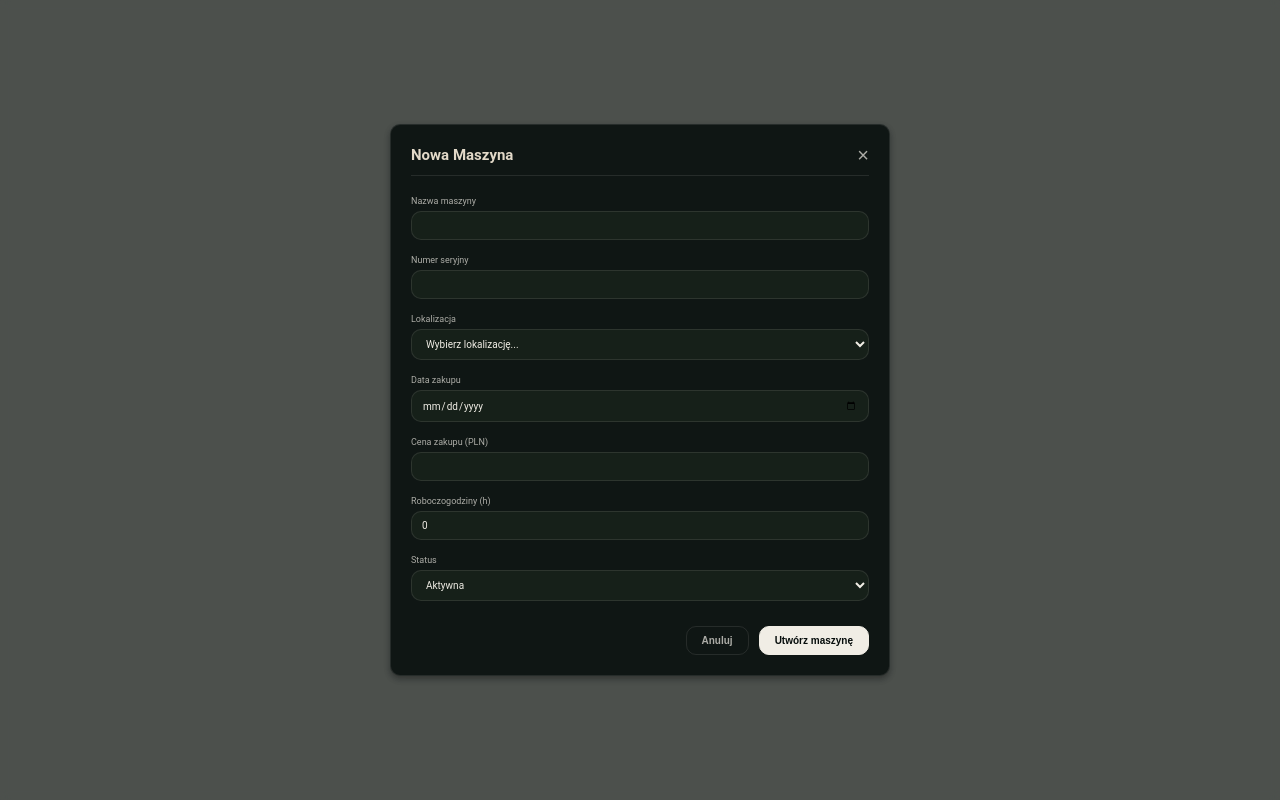
Scenario: AddMachineModal › wysyłanie formularza › wyświetla błąd gdy API zwróci błąd
Type "Tokarka" into the field labelled "Nazwa maszyny" at x=640, y=226, box [411, 211, 869, 240]
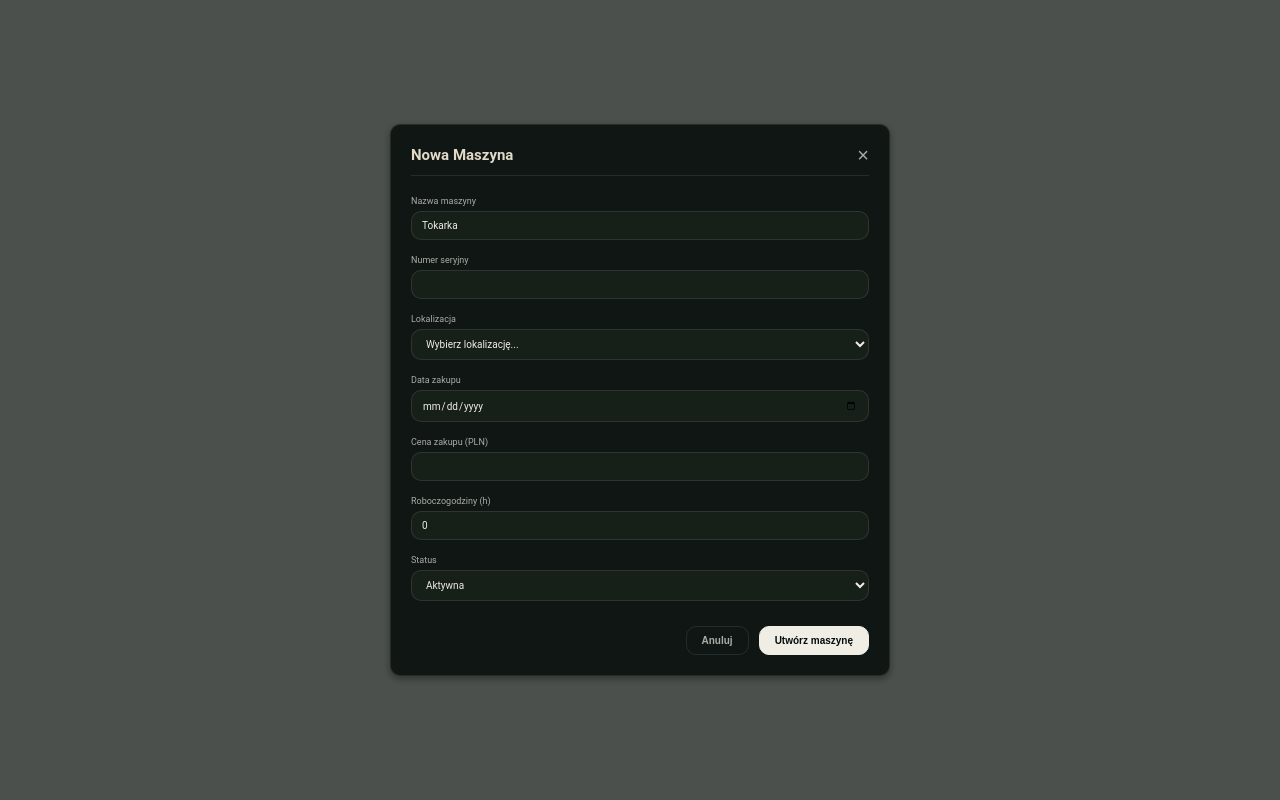
Type "SN-NEW" into the field labelled "Numer seryjny" at x=640, y=284, box [411, 270, 869, 299]
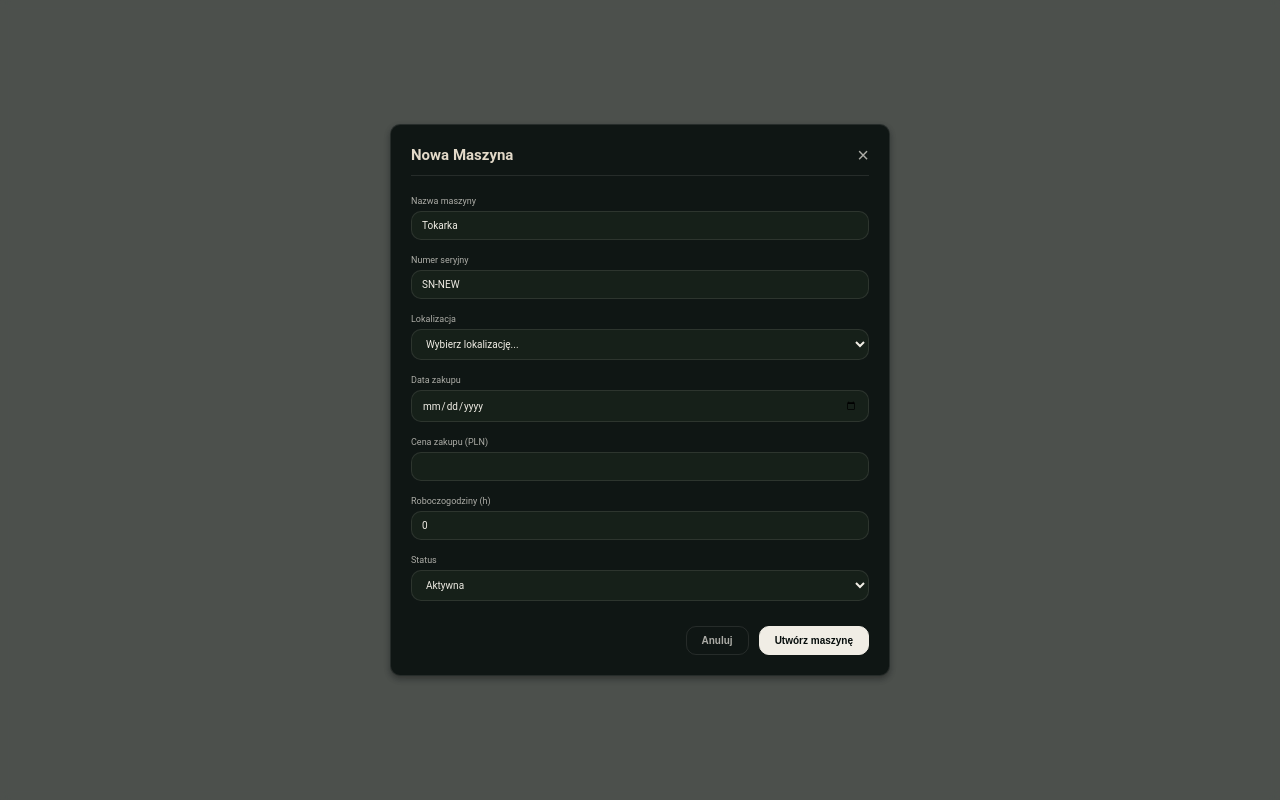
Type "2024-01-01" into the date field labelled "Data zakupu" at x=640, y=406, box [411, 390, 869, 422]
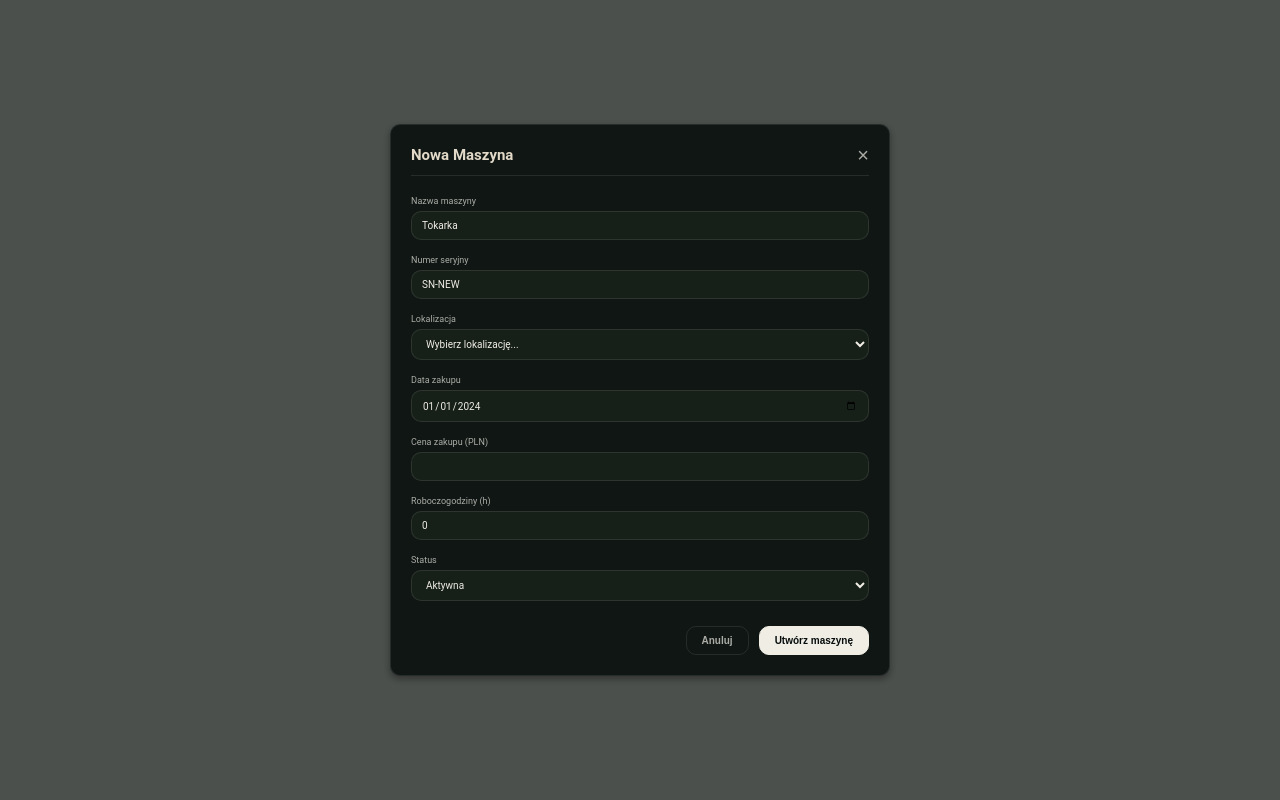
Type "10000" into the number field labelled "Cena zakupu (PLN)" at x=640, y=466, box [411, 452, 869, 481]
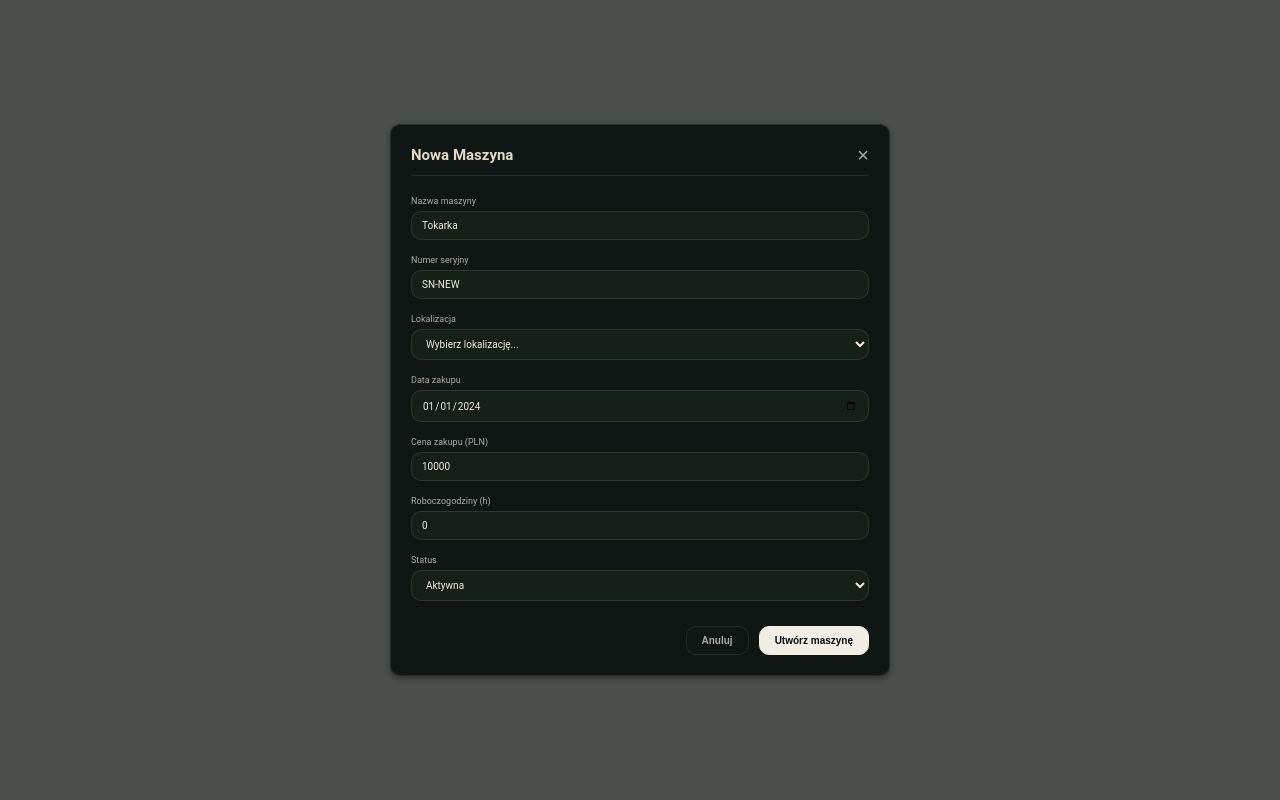
Submit the form named "Utwórz maszynę", box [411, 196, 869, 655]
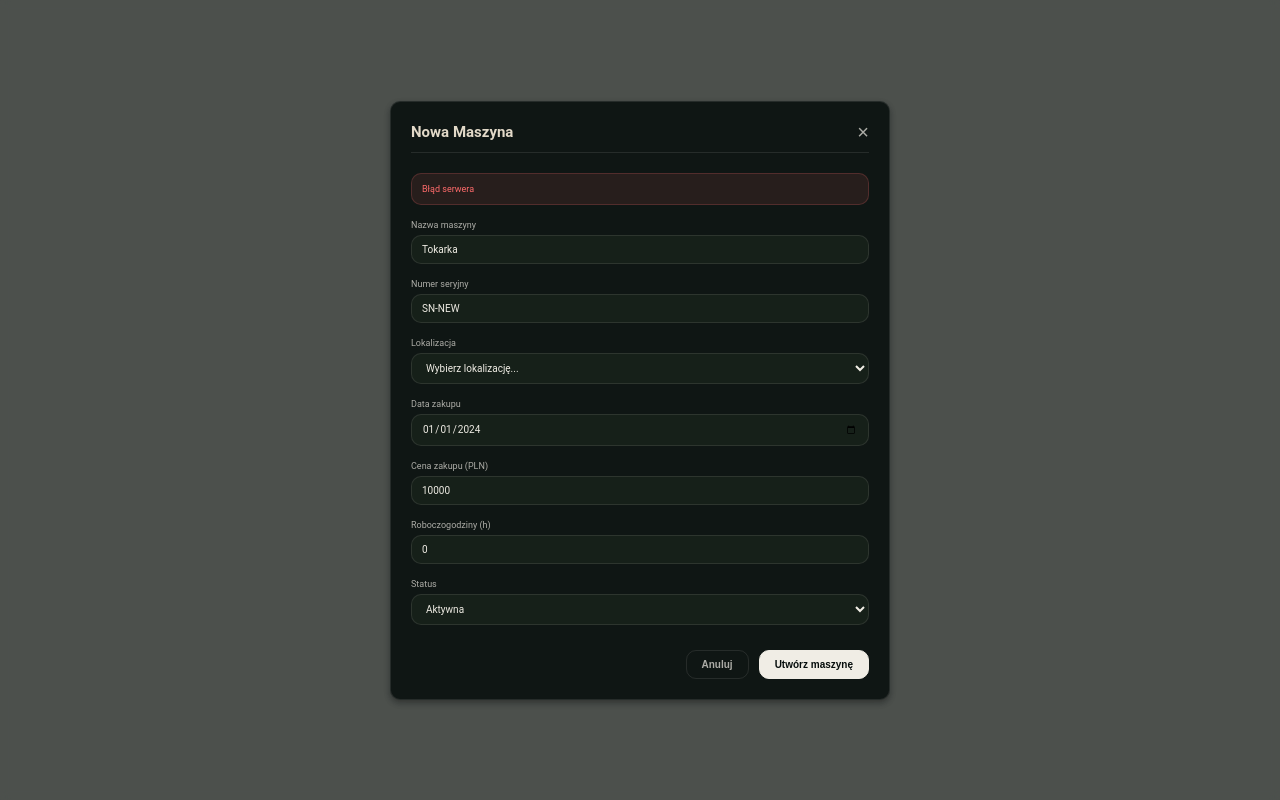
Now the text "Błąd serwera" is shown, box [411, 172, 869, 204]
